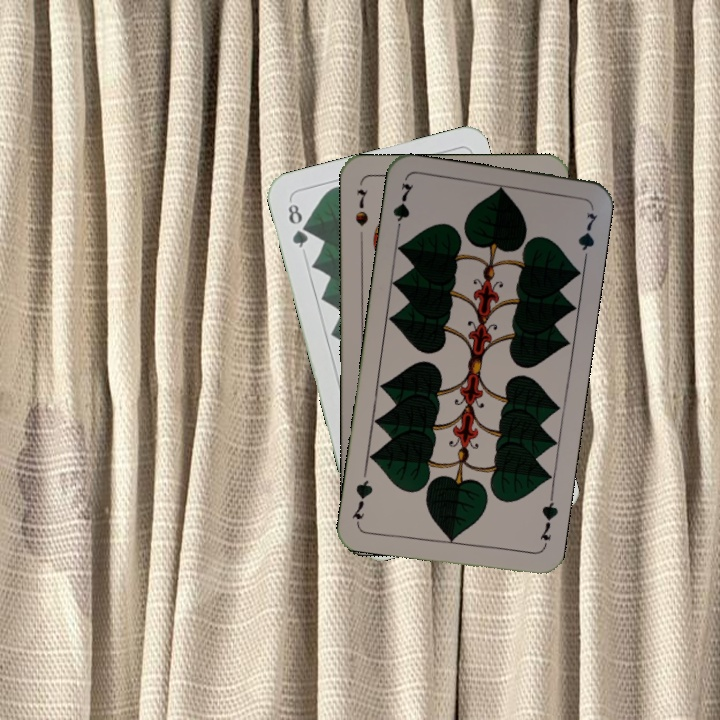G7: (388, 178, 416, 238), (535, 492, 561, 551)
G8: (284, 199, 311, 251)
S7: (351, 185, 371, 229)
